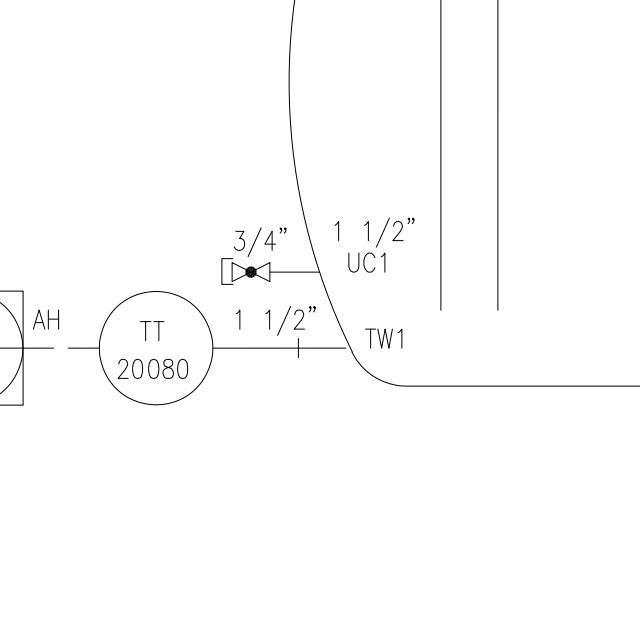BV2: (228, 258, 273, 284)
EC: (217, 257, 301, 287)
